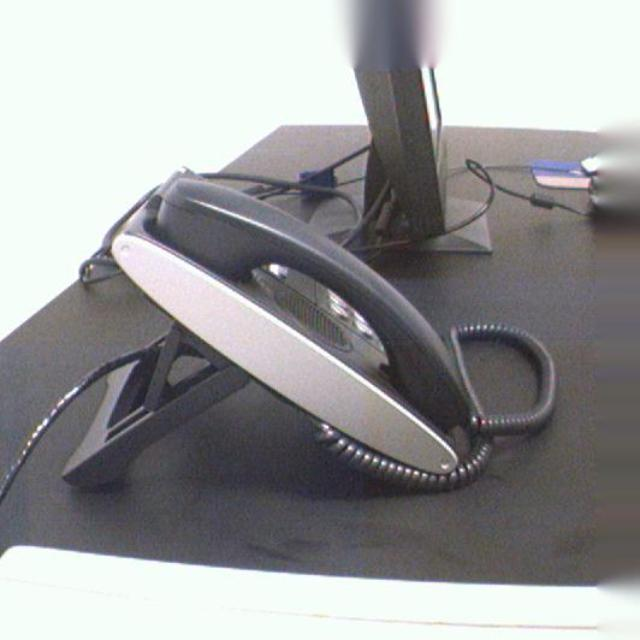Telephone-Set: (58, 160, 560, 496)
